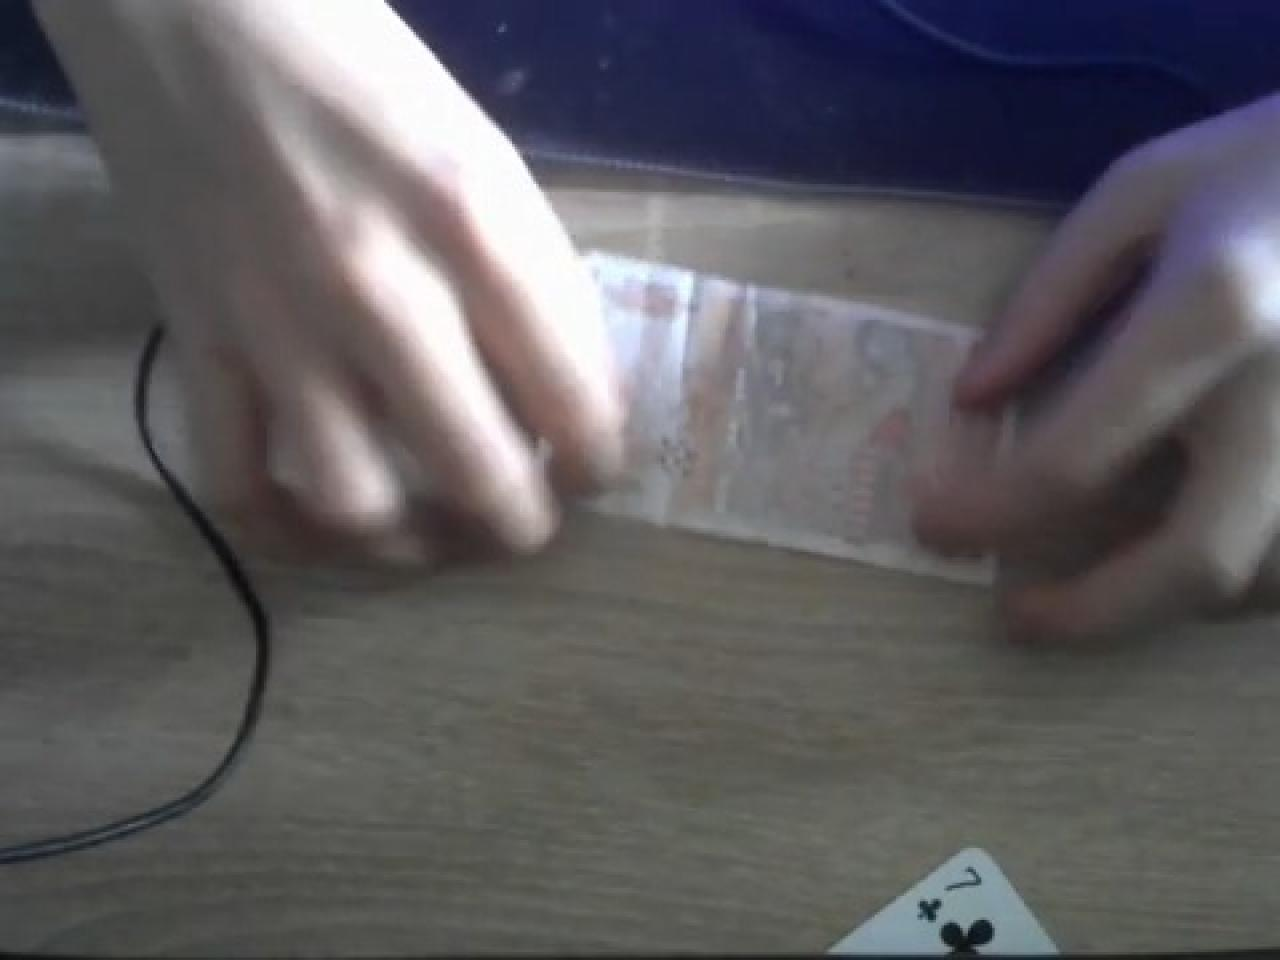5leva: (592, 253, 987, 579)
